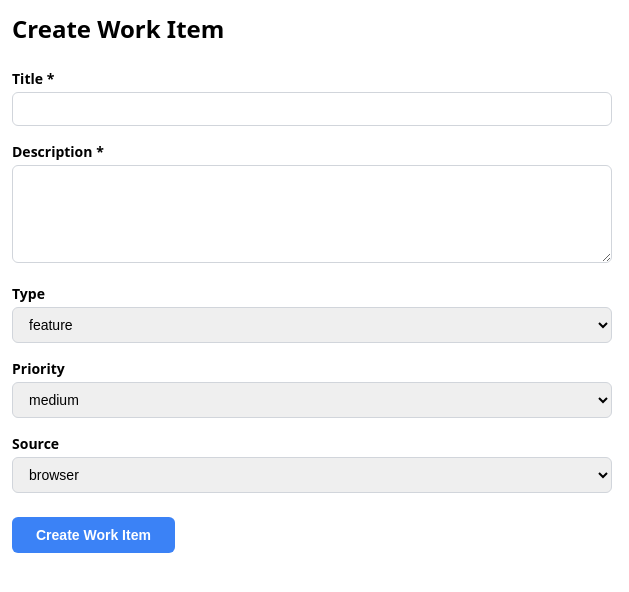
Test case: CreateWorkItemPage › shows validation error when description is empty
Type "Some title" into the field with test id "input-title".
click(312, 109); type("Some title")  # box [12,92,612,126]
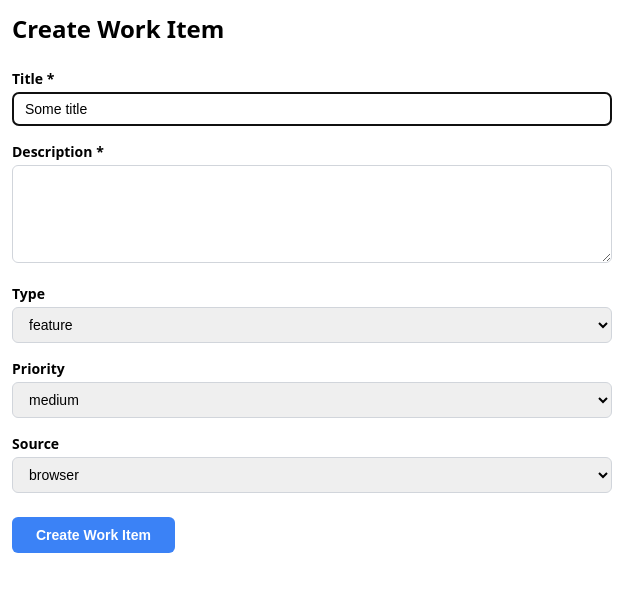
Click the button with test id "submit-button".
click(93, 535)  # box [12,517,175,553]
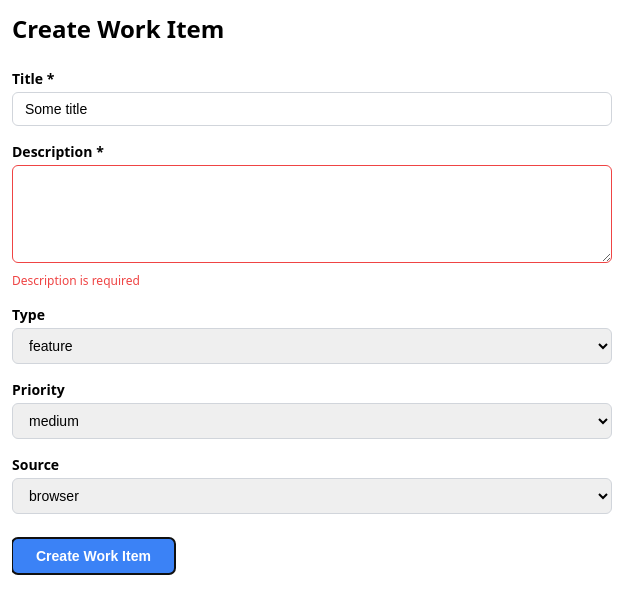
Expected: the text with test id "error-description" reads "Description is required", [12,272,140,289]
